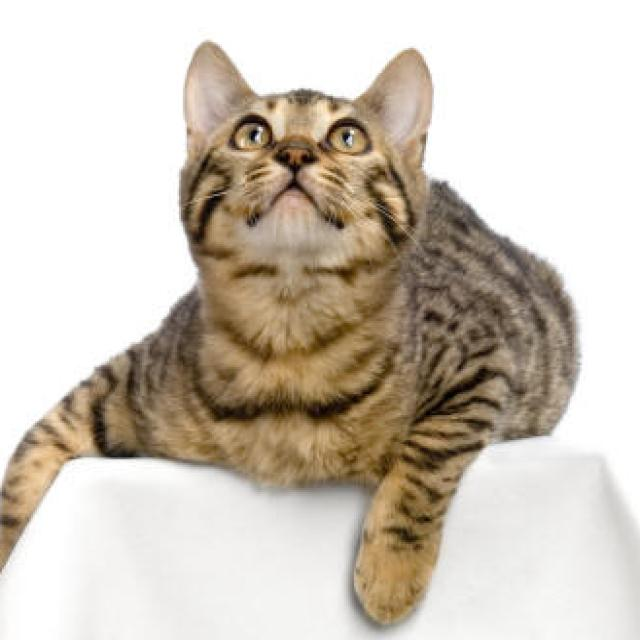Bengal: (0, 37, 597, 630)
